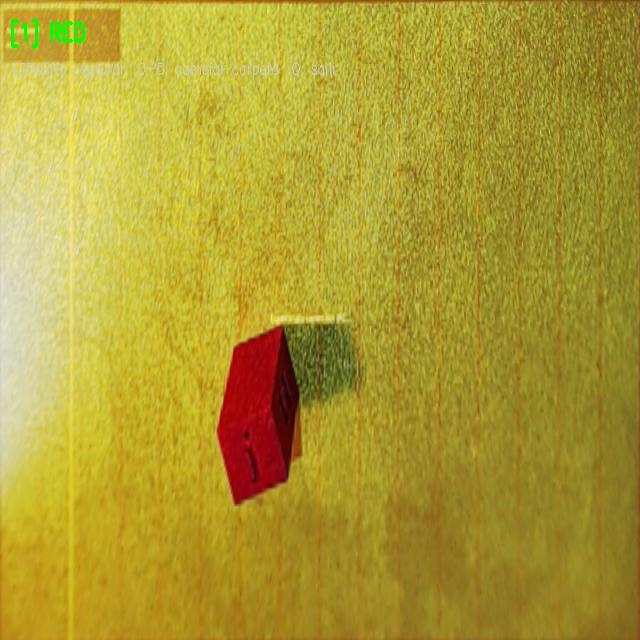red: (217, 327, 298, 503)
